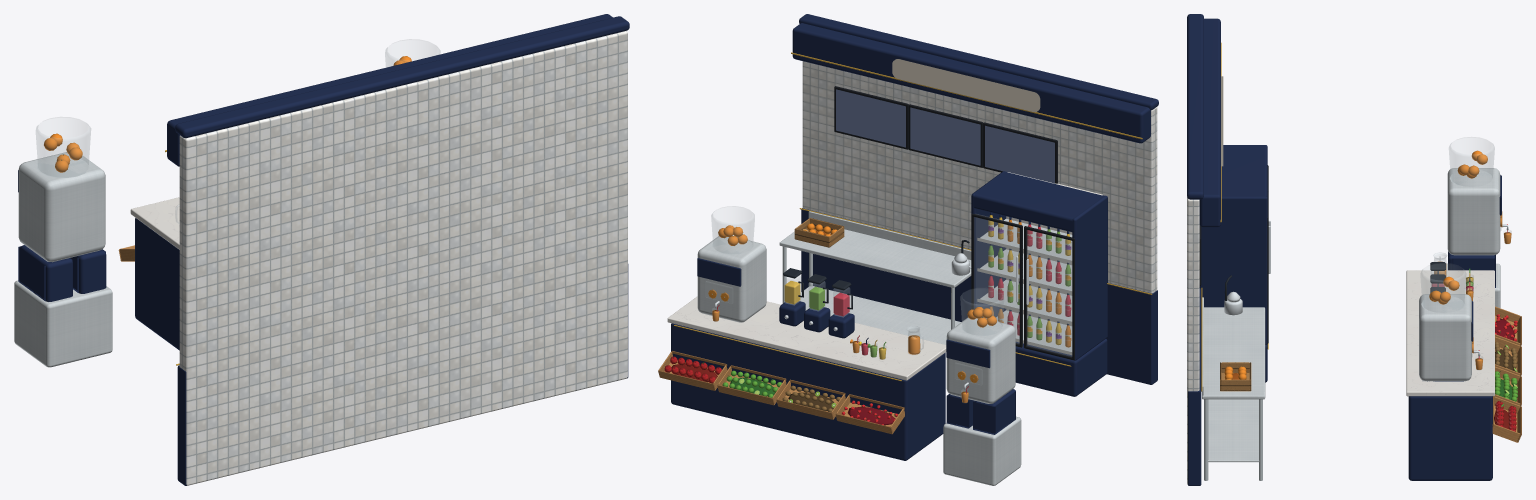
File: sector-sucos_T3.fbx
The picture shows the model from 3 angles, left to right: view 1: azimuth 30°, elevation 25°; view 2: azimuth 150°, elevation 25°; view 3: azimuth 270°, elevation 25°; orthographic projection. The views are drawn at different scales.
Parts seen in each view (by area): view 1: Body; view 2: Body; view 3: Body.
Part boxes in pixels (left/top/right/bottom): Body: left=14, top=14, right=629, bottom=485; Body: left=658, top=14, right=1158, bottom=485; Body: left=1187, top=14, right=1521, bottom=485.
Bounding box in the file's own units: 4.04 × 3.08 × 3.17.
